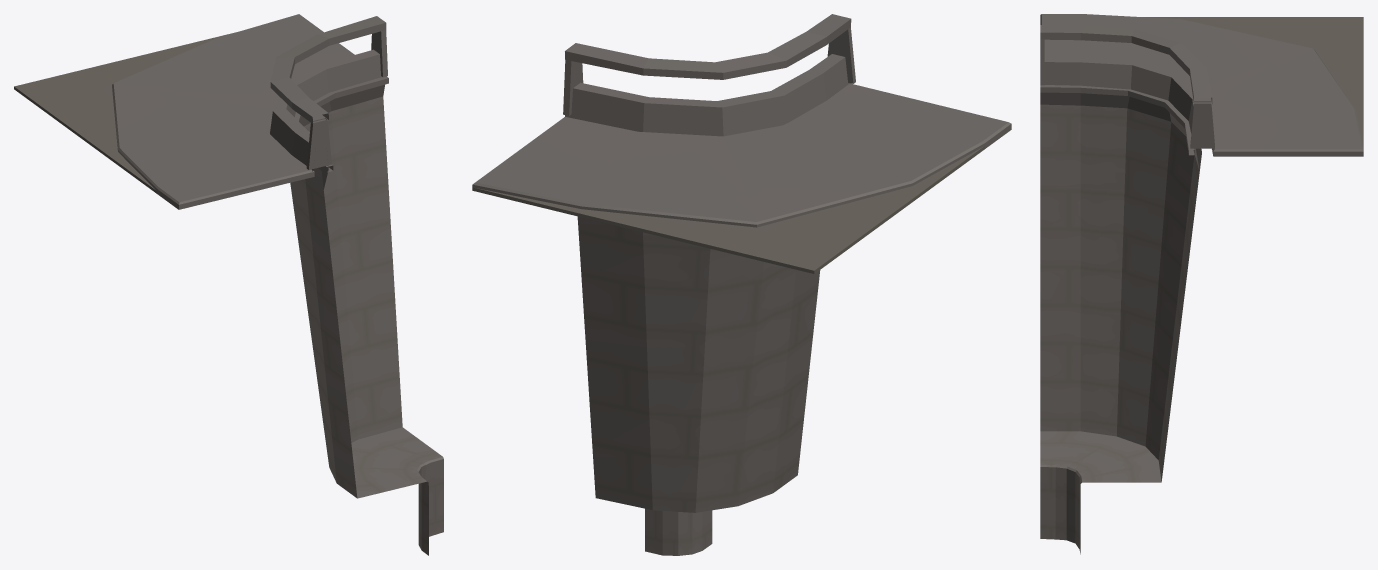
The model's file is NS_River_Wall_Pit.fbx.
3 views of the same model, side by side, from view 1: azimuth 30°, elevation 25°; view 2: azimuth 150°, elevation 25°; view 3: azimuth 270°, elevation 25° (orthographic). The views are drawn at different scales.
Visible parts, largest first — view 1: NS_River_Wall_Pit; view 2: NS_River_Wall_Pit; view 3: NS_River_Wall_Pit.
Part boxes in pixels (x1,y1,x2,y2): NS_River_Wall_Pit: (14, 14, 443, 555); NS_River_Wall_Pit: (472, 14, 1011, 555); NS_River_Wall_Pit: (1040, 14, 1363, 554).
Bounding box in the file's own units: 800 × 1251 × 800.
